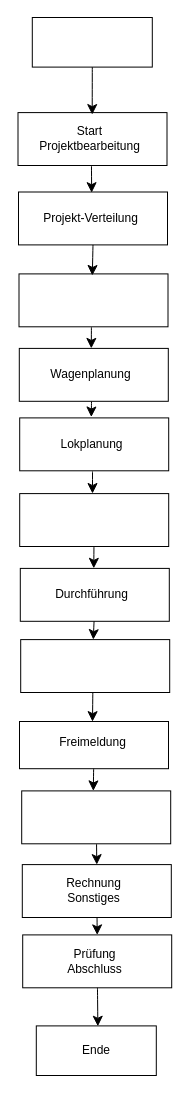
Image size: 189x1093. Some labels were removed from this diagram. The centre of each missing label's shape, as x and y in pixels:
Personal- Planung: pixel 94 519
Projektdaten erfassen: pixel 93 300
Rechnung Wagenstand: pixel 96 817
Rechnungen Hauptleistungen: pixel 95 665
Start: pixel 91 41
